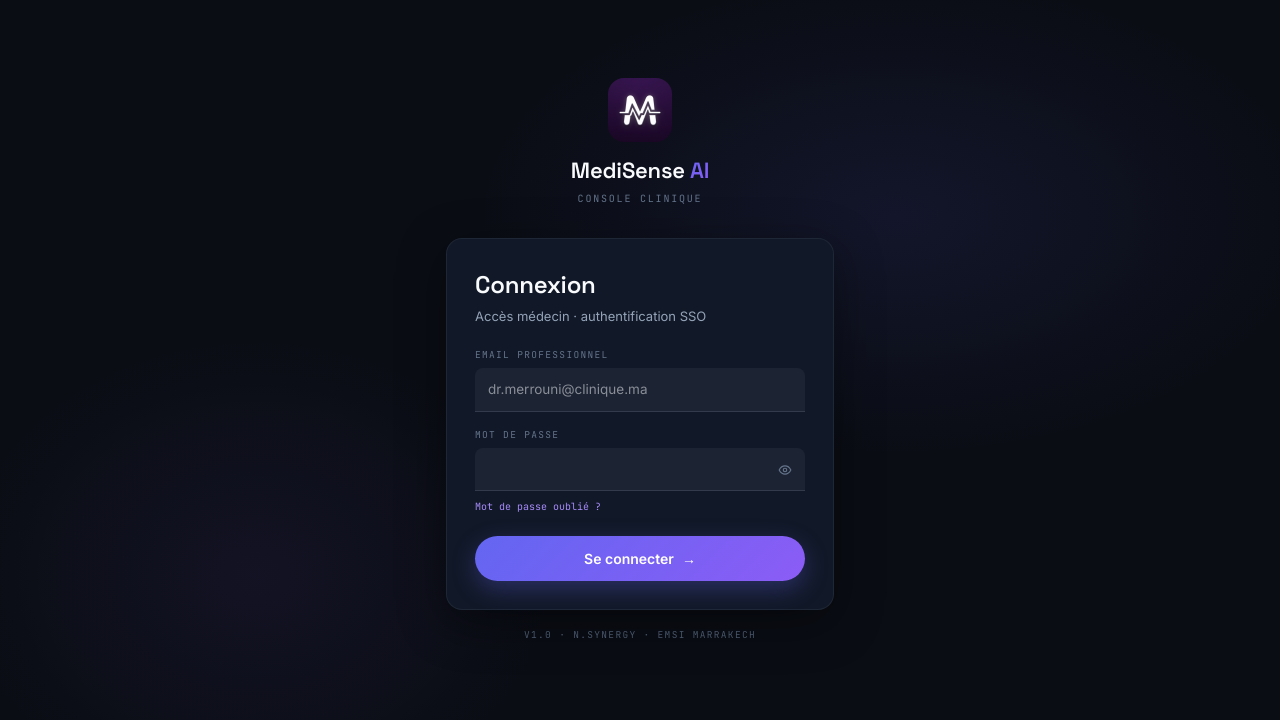
Test case: LoginPage › shows error message on failed login
Type "bad@x.com" into the field with placeholder "dr.merrouni@clinique.ma" at (640, 390), box [475, 368, 805, 412]
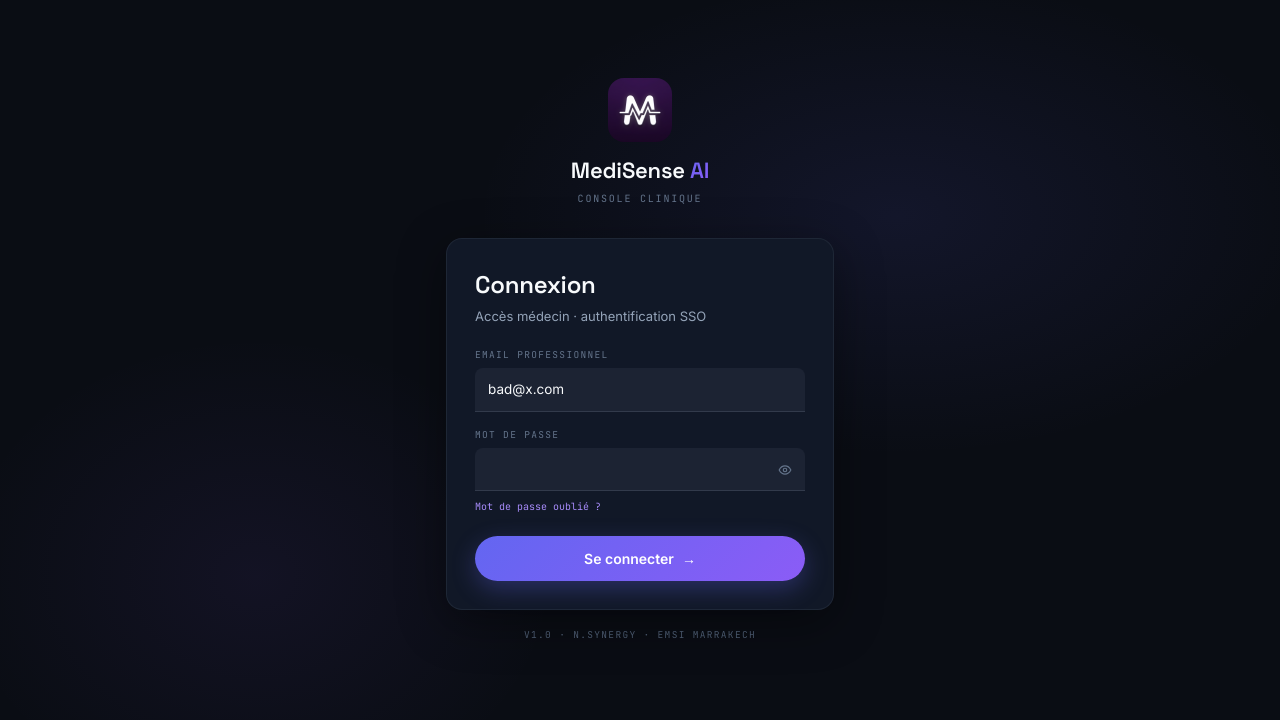
// Find password input by type
Type "wrong" into the password field at (640, 470), box [475, 448, 805, 491]
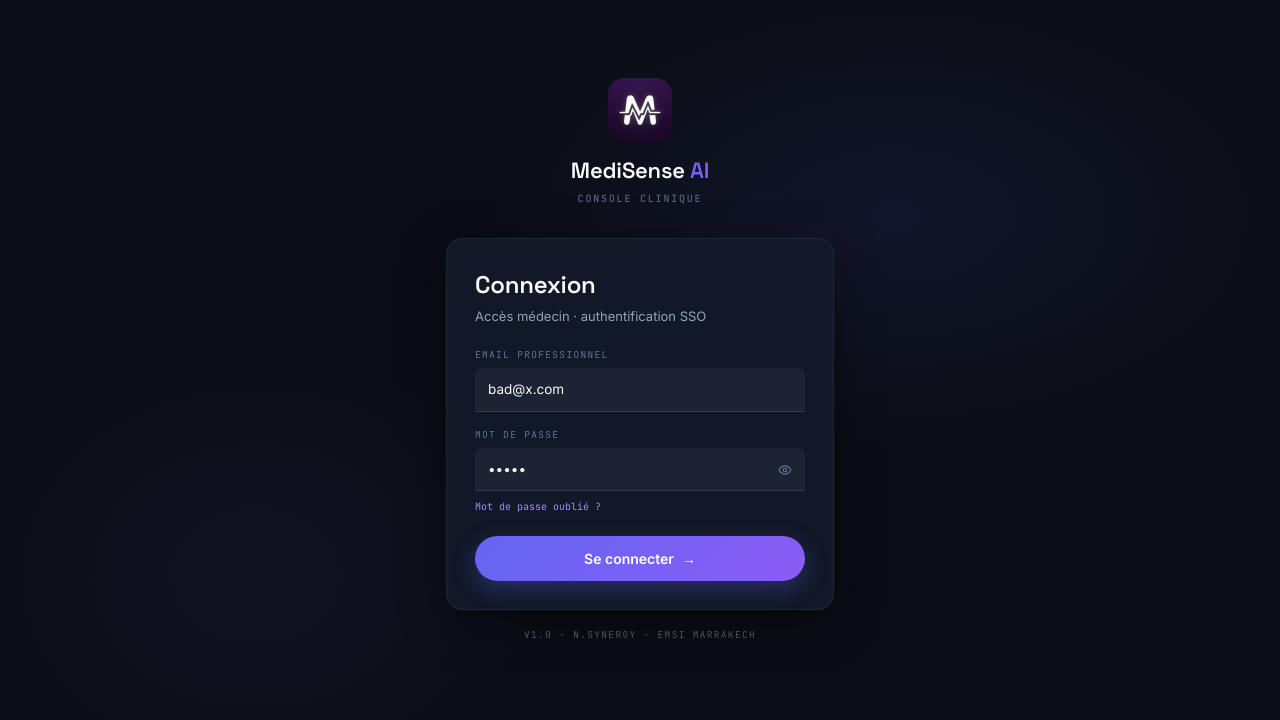
Submit the form with placeholder "dr.merrouni@clinique.ma", box [475, 267, 805, 581]
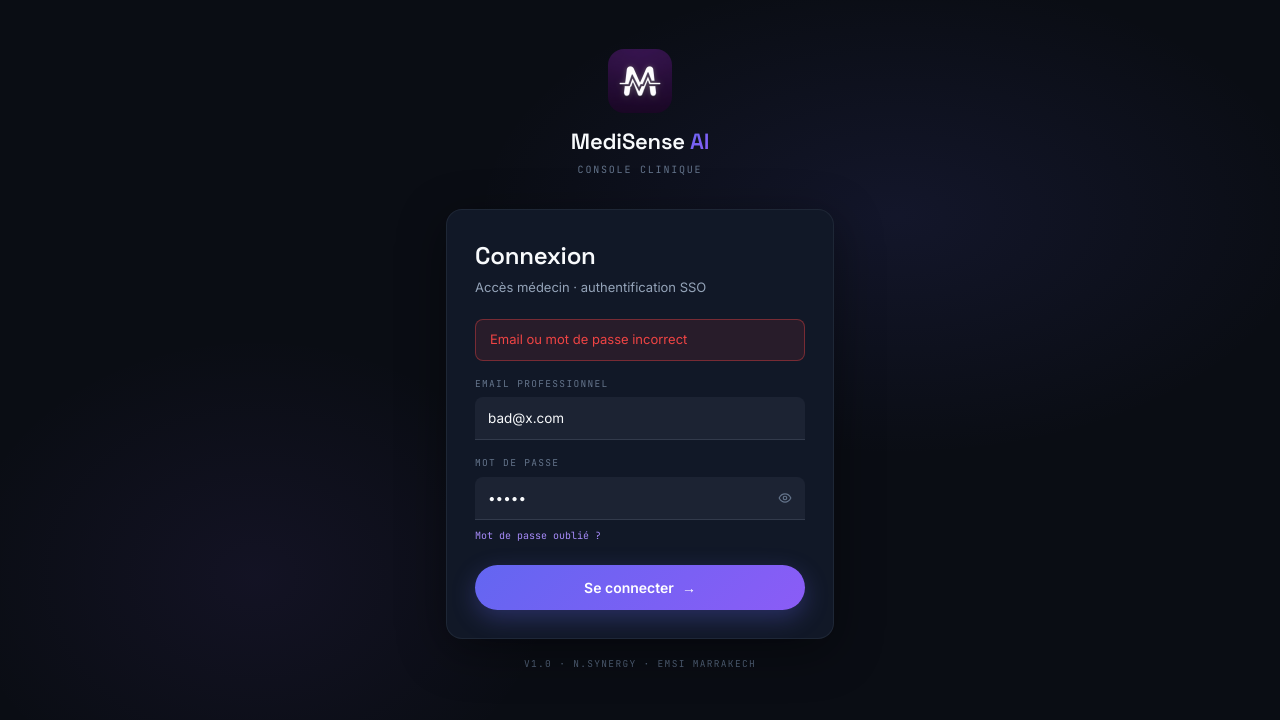
Now the text "Email ou mot de passe incorrect" is shown, box [475, 319, 805, 361]
